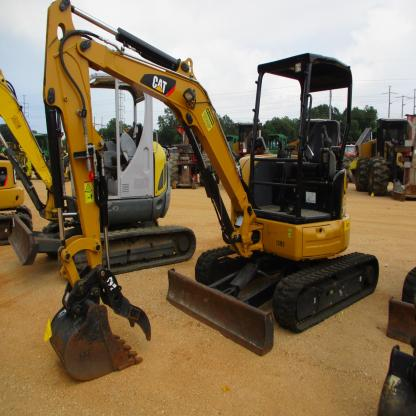excavator: (34, 0, 391, 402)
